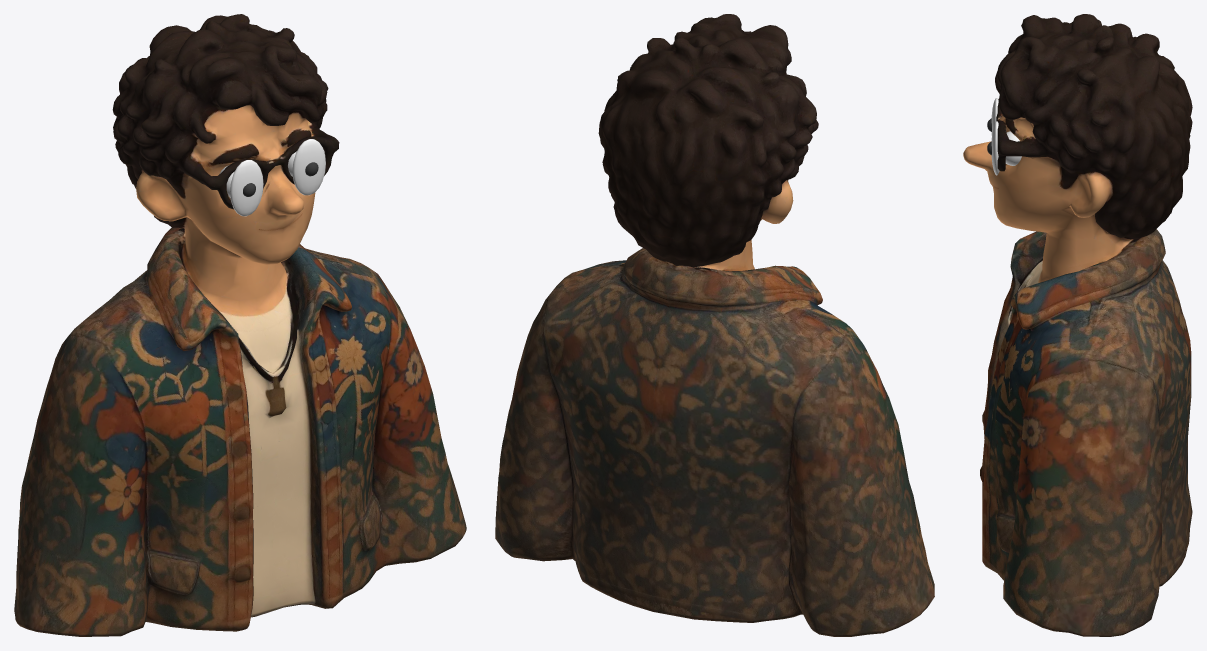
3 views of the same model, side by side, from view 1: azimuth 30°, elevation 25°; view 2: azimuth 150°, elevation 25°; view 3: azimuth 270°, elevation 25° (orthographic). The views are drawn at different scales.
Parts seen in each view (by area): view 1: Mesh_0, plateL, plateR; view 2: Mesh_0; view 3: Mesh_0.
Boxes of the visible parts, box(x1,y1,x2,y2) form: Mesh_0: box(14, 14, 466, 636); plateL: box(230, 160, 263, 216); plateR: box(292, 139, 325, 195); Mesh_0: box(495, 14, 934, 636); Mesh_0: box(963, 14, 1192, 636).
Size of the model in its own units: 1.63 by 2 by 0.8009.
4 materials, 1 textured.
